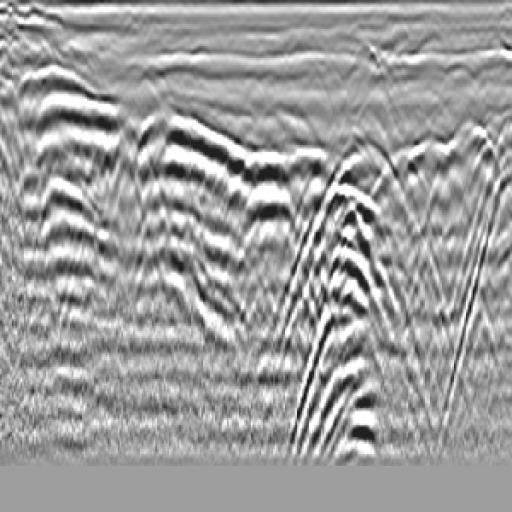metalic: (223, 150, 347, 286)
